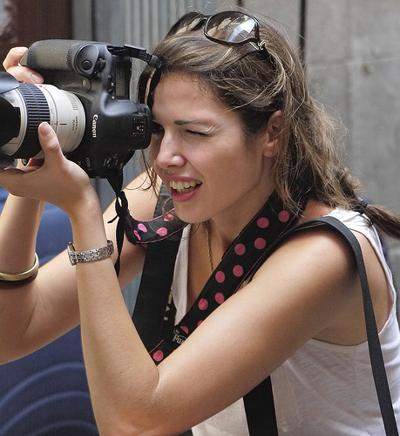person: (2, 12, 400, 436)
